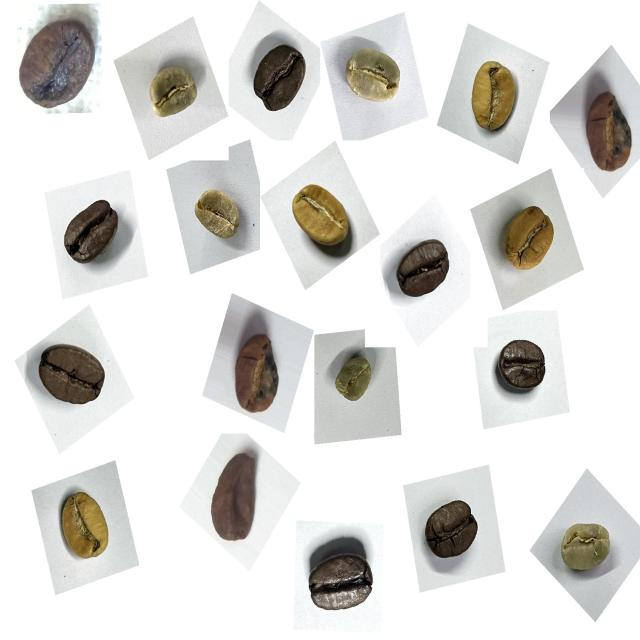bad: (11, 9, 103, 120), (193, 441, 269, 554), (224, 315, 292, 425), (576, 75, 640, 185)
dark: (31, 327, 116, 421), (301, 529, 382, 625), (50, 184, 128, 277), (243, 34, 316, 124), (415, 487, 489, 575), (388, 227, 462, 315), (490, 326, 556, 404)
green: (549, 506, 623, 592), (334, 37, 410, 118), (137, 50, 209, 132), (184, 176, 249, 254), (326, 347, 381, 413)
light: (280, 169, 363, 266), (46, 479, 121, 572), (458, 46, 528, 144), (495, 190, 569, 282)
